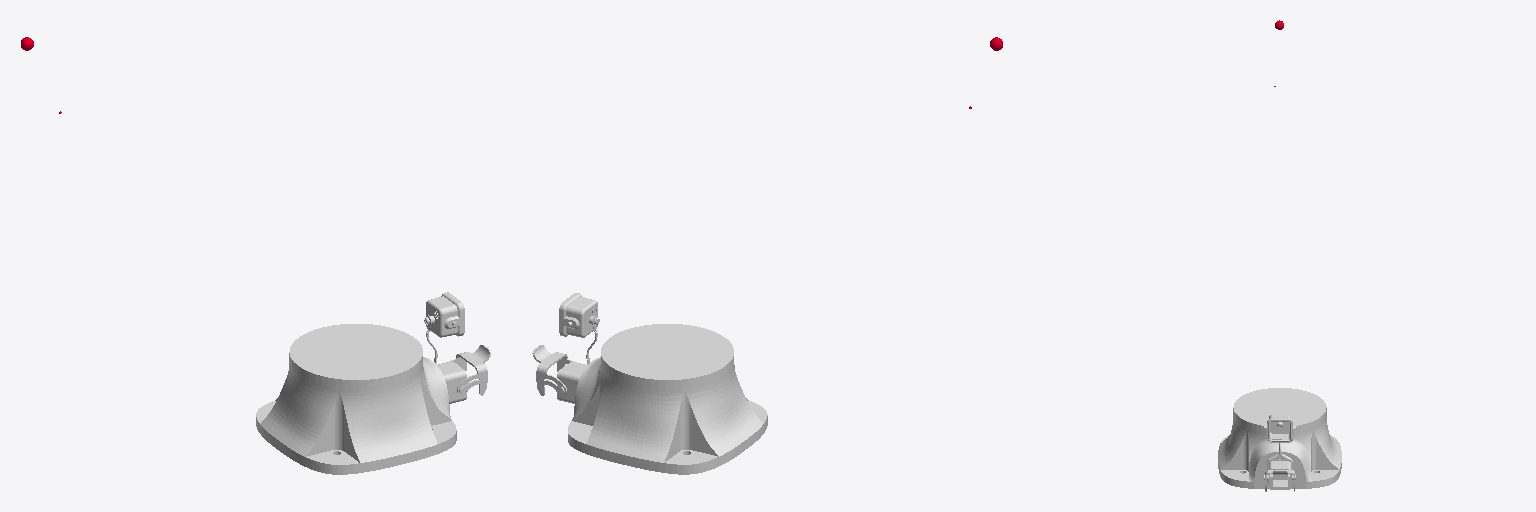
URDF robot description (mg400):
<?xml version="1.0" ?>
<robot name="mg400">
	<link name="world">
		<inertial>
			<origin rpy="0.00000 -0.00000 0.00000" xyz="0.00000 0.00000 0.00000"/>
			<mass value="0.00000"/>
			<inertia ixx="0.00000" ixy="0" ixz="0" iyy="0.00000" iyz="0" izz="0.00000"/>
		</inertial>
	</link>
	<link name="base_link">
		<inertial>
			<origin rpy="0.00000 -0.00000 0.00000" xyz="0.00060 -0.00000 0.05609"/>
			<mass value="3.62165"/>
			<inertia ixx="0.01587" ixy="0" ixz="0" iyy="0.01587" iyz="0" izz="0.02319"/>
		</inertial>
		<visual>
			<origin rpy="0.00000 -0.00000 0.00000" xyz="0.00000 0.00000 0.00000"/>
			<geometry>
				<mesh filename="../robot_arm_assets/mg400/meshes/base_link.STL" scale="1.00000 1.00000 1.00000"/>
			</geometry>
			<material name="mat_0">
				<color rgba="0.90000 0.90000 0.90000 1.00000" />
			</material>
		</visual>
		<collision>
			<origin rpy="0.00000 -0.00000 0.00000" xyz="0.00000 0.00000 0.00000"/>
			<geometry>
				<mesh filename="../robot_arm_assets/mg400/meshes/base_link.STL" scale="1.00000 1.00000 1.00000"/>
			</geometry>
		</collision>
	</link>
	<link name="link1">
		<inertial>
			<origin rpy="0.00000 -0.00000 0.00000" xyz="-0.00462 -0.00007 0.07099"/>
			<mass value="1.77056"/>
			<inertia ixx="0.00748" ixy="0" ixz="0" iyy="0.00775" iyz="0" izz="0.00787"/>
		</inertial>
		<visual>
			<origin rpy="0.00000 -0.00000 0.00000" xyz="0.00000 0.00000 0.00000"/>
			<geometry>
				<mesh filename="../robot_arm_assets/mg400/meshes/link1.STL" scale="1.00000 1.00000 1.00000"/>
			</geometry>
			<material name="mat_1">
				<color rgba="0.30000 0.30000 0.30000 1.00000" />
			</material>
		</visual>
		<collision>
			<origin rpy="0.00000 -0.00000 0.00000" xyz="0.00000 0.00000 0.00000"/>
			<geometry>
				<mesh filename="../robot_arm_assets/mg400/meshes/link1.STL" scale="1.00000 1.00000 1.00000"/>
			</geometry>
		</collision>
	</link>
	<link name="link2_1">
		<inertial>
			<origin rpy="0.00000 -0.00000 0.00000" xyz="-0.00322 0.03529 0.05961"/>
			<mass value="0.08661"/>
			<inertia ixx="0.00038" ixy="0" ixz="0" iyy="0.00035" iyz="0" izz="0.00006"/>
		</inertial>
		<visual>
			<origin rpy="0.00000 -0.00000 0.00000" xyz="0.00000 0.00000 0.00000"/>
			<geometry>
				<mesh filename="../robot_arm_assets/mg400/meshes/link2_1.STL" scale="1.00000 1.00000 1.00000"/>
			</geometry>
			<material name="mat_2">
				<color rgba="0.30000 0.30000 0.30000 1.00000" />
			</material>
		</visual>
		<collision>
			<origin rpy="0.00000 -0.00000 0.00000" xyz="0.00000 0.00000 0.00000"/>
			<geometry>
				<mesh filename="../robot_arm_assets/mg400/meshes/link2_1.STL" scale="1.00000 1.00000 1.00000"/>
			</geometry>
		</collision>
	</link>
	<link name="link3_1">
		<inertial>
			<origin rpy="0.00000 -0.00000 0.00000" xyz="0.08217 0.00011 -0.00334"/>
			<mass value="0.03752"/>
			<inertia ixx="0.00001" ixy="0" ixz="0" iyy="0.00018" iyz="0" izz="0.00018"/>
		</inertial>
		<visual>
			<origin rpy="0.00000 -0.00000 0.00000" xyz="0.00000 0.00000 0.00000"/>
			<geometry>
				<mesh filename="../robot_arm_assets/mg400/meshes/link3_1.STL" scale="1.00000 1.00000 1.00000"/>
			</geometry>
			<material name="mat_3">
				<color rgba="0.30000 0.30000 0.30000 1.00000" />
			</material>
		</visual>
		<collision>
			<origin rpy="0.00000 -0.00000 0.00000" xyz="0.00000 0.00000 0.00000"/>
			<geometry>
				<mesh filename="../robot_arm_assets/mg400/meshes/link3_1.STL" scale="1.00000 1.00000 1.00000"/>
			</geometry>
		</collision>
	</link>
	<link name="link4_1">
		<inertial>
			<origin rpy="0.00000 -0.00000 0.00000" xyz="0.03879 0.01708 -0.00246"/>
			<mass value="0.06290"/>
			<inertia ixx="0.00006" ixy="0" ixz="0" iyy="0.00010" iyz="0" izz="0.00007"/>
		</inertial>
		<visual>
			<origin rpy="0.00000 -0.00000 0.00000" xyz="0.00000 0.00000 0.00000"/>
			<geometry>
				<mesh filename="../robot_arm_assets/mg400/meshes/link4_1.STL" scale="1.00000 1.00000 1.00000"/>
			</geometry>
			<material name="mat_4">
				<color rgba="0.90000 0.90000 0.90000 1.00000" />
			</material>
		</visual>
		<collision>
			<origin rpy="0.00000 -0.00000 0.00000" xyz="0.00000 0.00000 0.00000"/>
			<geometry>
				<mesh filename="../robot_arm_assets/mg400/meshes/link4_1.STL" scale="1.00000 1.00000 1.00000"/>
			</geometry>
		</collision>
	</link>
	<link name="link5">
		<inertial>
			<origin rpy="0.00000 -0.00000 0.00000" xyz="0.00000 0.00000 -0.03497"/>
			<mass value="0.09653"/>
			<inertia ixx="0.00008" ixy="0" ixz="0" iyy="0.00008" iyz="0" izz="0.00003"/>
		</inertial>
		<visual>
			<origin rpy="0.00000 -0.00000 0.00000" xyz="0.00000 0.00000 0.00000"/>
			<geometry>
				<mesh filename="../robot_arm_assets/mg400/meshes/link5.STL" scale="1.00000 1.00000 1.00000"/>
			</geometry>
			<material name="mat_5">
				<color rgba="0.90000 0.90000 0.90000 1.00000" />
			</material>
		</visual>
		<collision>
			<origin rpy="0.00000 -0.00000 0.00000" xyz="0.00000 0.00000 0.00000"/>
			<geometry>
				<mesh filename="../robot_arm_assets/mg400/meshes/link5.STL" scale="1.00000 1.00000 1.00000"/>
			</geometry>
		</collision>
	</link>
	<link name="ee_link">
		<inertial>
			<origin rpy="-3.14000 -0.00000 1.57000" xyz="0.00000 0.00000 0.00000"/>
			<mass value="0.00000"/>
			<inertia ixx="0.00000" ixy="0" ixz="0" iyy="0.00000" iyz="0" izz="0.00000"/>
		</inertial>
		<visual>
			<origin rpy="0.00000 -0.00000 0.00000" xyz="0.00000 0.00000 0.00000"/>
			<geometry>
				<sphere radius="0.00500"/>
			</geometry>
			<material name="mat_6">
				<color rgba="0.90000 0.00000 0.20000 1.00000" />
			</material>
		</visual>
		<collision>
			<origin rpy="0.00000 -0.00000 0.00000" xyz="0.00000 0.00000 0.00000"/>
			<geometry>
				<sphere radius="0.00100"/>
			</geometry>
		</collision>
	</link>
	<link name="link2_2">
		<inertial>
			<origin rpy="0.00000 -0.00000 0.00000" xyz="-0.02011 0.03050 0.07363"/>
			<mass value="0.06625"/>
			<inertia ixx="0.00025" ixy="0" ixz="0" iyy="0.00024" iyz="0" izz="0.00004"/>
		</inertial>
		<visual>
			<origin rpy="0.00000 -0.00000 0.00000" xyz="0.00000 0.00000 0.00000"/>
			<geometry>
				<mesh filename="../robot_arm_assets/mg400/meshes/link2_2.STL" scale="1.00000 1.00000 1.00000"/>
			</geometry>
			<material name="mat_7">
				<color rgba="0.90000 0.90000 0.90000 1.00000" />
			</material>
		</visual>
		<collision>
			<origin rpy="0.00000 -0.00000 0.00000" xyz="0.00000 0.00000 0.00000"/>
			<geometry>
				<mesh filename="../robot_arm_assets/mg400/meshes/link2_2.STL" scale="1.00000 1.00000 1.00000"/>
			</geometry>
		</collision>
	</link>
	<link name="link3_2">
		<inertial>
			<origin rpy="0.00000 -0.00000 0.00000" xyz="0.03386 0.02402 0.00452"/>
			<mass value="0.03667"/>
			<inertia ixx="0.00002" ixy="0" ixz="0" iyy="0.00004" iyz="0" izz="0.00004"/>
		</inertial>
		<visual>
			<origin rpy="0.00000 -0.00000 0.00000" xyz="0.00000 0.00000 0.00000"/>
			<geometry>
				<mesh filename="../robot_arm_assets/mg400/meshes/link3_2.STL" scale="1.00000 1.00000 1.00000"/>
			</geometry>
			<material name="mat_8">
				<color rgba="0.30000 0.30000 0.30000 1.00000" />
			</material>
		</visual>
		<collision>
			<origin rpy="0.00000 -0.00000 0.00000" xyz="0.00000 0.00000 0.00000"/>
			<geometry>
				<mesh filename="../robot_arm_assets/mg400/meshes/link3_2.STL" scale="1.00000 1.00000 1.00000"/>
			</geometry>
		</collision>
	</link>
	<link name="link4_2">
		<inertial>
			<origin rpy="0.00000 -0.00000 0.00000" xyz="0.08764 0.02350 0.00831"/>
			<mass value="0.04536"/>
			<inertia ixx="0.00002" ixy="0" ixz="0" iyy="0.00016" iyz="0" izz="0.00016"/>
		</inertial>
		<visual>
			<origin rpy="0.00000 -0.00000 0.00000" xyz="0.00000 0.00000 0.00000"/>
			<geometry>
				<mesh filename="../robot_arm_assets/mg400/meshes/link4_2.STL" scale="1.00000 1.00000 1.00000"/>
			</geometry>
			<material name="mat_9">
				<color rgba="0.90000 0.90000 0.90000 1.00000" />
			</material>
		</visual>
		<collision>
			<origin rpy="0.00000 -0.00000 0.00000" xyz="0.00000 0.00000 0.00000"/>
			<geometry>
				<mesh filename="../robot_arm_assets/mg400/meshes/link4_2.STL" scale="1.00000 1.00000 1.00000"/>
			</geometry>
		</collision>
	</link>
	<link name="digit_body_link">
		<inertial>
			<origin rpy="0.00000 -0.00000 0.00000" xyz="0.00443 -0.01409 0.00000"/>
			<mass value="0.00778"/>
			<inertia ixx="0.00000" ixy="0" ixz="0" iyy="0.00000" iyz="0" izz="0.00000"/>
		</inertial>
		<visual>
			<origin rpy="0.00000 -0.00000 0.00000" xyz="0.00000 0.00000 0.02000"/>
			<geometry>
				<mesh filename="../sensor_assets/right_angle_digit/../standard_digit/body/digit_body.stl" scale="1.00000 1.00000 1.00000"/>
			</geometry>
			<material name="mat_10">
				<color rgba="0.80000 0.80000 0.80000 1.00000" />
			</material>
		</visual>
		<collision>
			<origin rpy="0.00000 -0.00000 0.00000" xyz="0.00000 0.00000 0.02000"/>
			<geometry>
				<mesh filename="../sensor_assets/right_angle_digit/../standard_digit/body/digit_body.stl" scale="1.00000 1.00000 1.00000"/>
			</geometry>
		</collision>
	</link>
	<link name="digit_tip_link">
		<inertial>
			<origin rpy="0.00000 -0.00000 0.00000" xyz="-0.00000 0.00554 -0.00576"/>
			<mass value="0.00130"/>
			<inertia ixx="0.00000" ixy="0" ixz="0" iyy="0.00000" iyz="0" izz="0.00000"/>
		</inertial>
		<visual>
			<origin rpy="0.00000 -0.00000 0.00000" xyz="0.00000 0.00000 -0.02000"/>
			<geometry>
				<mesh filename="../sensor_assets/right_angle_digit/../standard_digit/tip/digit_skin.stl" scale="1.05000 1.05000 1.00000"/>
			</geometry>
			<material name="mat_11">
				<color rgba="0.00000 0.00000 0.00000 1.00000" />
			</material>
		</visual>
		<collision>
			<origin rpy="0.00000 -0.00000 0.00000" xyz="0.00000 0.00000 -0.02000"/>
			<geometry>
				<mesh filename="../sensor_assets/right_angle_digit/../standard_digit/tip/digit_core.stl" scale="1.05000 1.05000 1.00000"/>
			</geometry>
		</collision>
	</link>
	<link name="tcp_link">
		<inertial>
			<origin rpy="0.00000 -0.00000 1.57000" xyz="0.00000 0.00000 0.00000"/>
			<mass value="0.00000"/>
			<inertia ixx="0.00000" ixy="0" ixz="0" iyy="0.00000" iyz="0" izz="0.00000"/>
		</inertial>
		<visual>
			<origin rpy="0.00000 -0.00000 0.00000" xyz="0.00000 0.00000 0.00000"/>
			<geometry>
				<sphere radius="0.00100"/>
			</geometry>
			<material name="mat_12">
				<color rgba="0.90000 0.00000 0.20000 0.50000" />
			</material>
		</visual>
	</link>
	<joint name="world_joint" type="fixed">
		<parent link="world"/>
		<child link="base_link"/>
		<dynamics damping="1.0" friction="0.0001"/>
		<origin rpy="0.00000 -0.00000 -3.14000" xyz="0.00000 0.00000 0.00000"/>
		<axis xyz="0.00000 0.00000 0.00000"/>
	</joint>
	<joint name="j1" type="revolute">
		<parent link="base_link"/>
		<child link="link1"/>
		<limit effort="0.00000" lower="-3.14000" upper="3.14000" velocity="0.00000"/>
		<dynamics damping="1.0" friction="0.0001"/>
		<origin rpy="0.00000 -0.00000 0.00000" xyz="-0.00500 0.00000 0.10900"/>
		<axis xyz="0.00000 0.00000 1.00000"/>
	</joint>
	<joint name="j2_1" type="revolute">
		<parent link="link1"/>
		<child link="link2_1"/>
		<limit effort="0.00000" lower="-3.14000" upper="3.14000" velocity="0.00000"/>
		<dynamics damping="1.0" friction="0.0001"/>
		<origin rpy="0.00000 -0.00000 0.00000" xyz="0.04350 -0.03577 0.11900"/>
		<axis xyz="0.00000 1.00000 0.00000"/>
	</joint>
	<joint name="j3_1" type="revolute">
		<parent link="link2_1"/>
		<child link="link3_1"/>
		<limit effort="0.00000" lower="-3.14000" upper="3.14000" velocity="0.00000"/>
		<dynamics damping="1.0" friction="0.0001"/>
		<origin rpy="0.00000 -0.00000 0.00000" xyz="-0.00105 0.03577 0.17500"/>
		<axis xyz="0.00000 1.00000 0.00000"/>
	</joint>
	<joint name="j4_1" type="revolute">
		<parent link="link3_1"/>
		<child link="link4_1"/>
		<limit effort="0.00000" lower="-3.14000" upper="3.14000" velocity="0.00000"/>
		<dynamics damping="1.0" friction="0.0001"/>
		<origin rpy="0.00000 -0.00000 0.00000" xyz="0.17497 -0.01700 0.00325"/>
		<axis xyz="0.00000 1.00000 0.00000"/>
	</joint>
	<joint name="j5" type="revolute">
		<parent link="link4_1"/>
		<child link="link5"/>
		<limit effort="0.00000" lower="-3.14000" upper="3.14000" velocity="0.00000"/>
		<dynamics damping="1.0" friction="0.0001"/>
		<origin rpy="0.00000 -0.00000 0.00000" xyz="0.06600 0.01700 0.03100"/>
		<axis xyz="-0.00001 0.00000 1.00000"/>
	</joint>
	<joint name="ee_joint" type="fixed">
		<parent link="link5"/>
		<child link="ee_link"/>
		<dynamics damping="1.0" friction="0.0001"/>
		<origin rpy="0.00000 -0.00000 0.00000" xyz="0.00000 0.00000 -0.06500"/>
		<axis xyz="0.00000 0.00000 0.00000"/>
	</joint>
	<joint name="j2_2" type="revolute">
		<parent link="link1"/>
		<child link="link2_2"/>
		<limit effort="0.00000" lower="-3.14000" upper="3.14000" velocity="0.00000"/>
		<dynamics damping="1.0" friction="0.0001"/>
		<origin rpy="0.00000 -0.00000 0.00000" xyz="0.00453 -0.03050 0.14150"/>
		<axis xyz="0.00000 1.00000 0.00000"/>
	</joint>
	<joint name="j3_2" type="revolute">
		<parent link="link2_2"/>
		<child link="link3_2"/>
		<limit effort="0.00000" lower="-3.14000" upper="3.14000" velocity="0.00000"/>
		<dynamics damping="1.0" friction="0.0001"/>
		<origin rpy="0.00000 -0.00000 0.00000" xyz="-0.00105 0.00650 0.17500"/>
		<axis xyz="0.00000 1.00000 0.00000"/>
	</joint>
	<joint name="j4_2" type="revolute">
		<parent link="link3_2"/>
		<child link="link4_2"/>
		<limit effort="0.00000" lower="-3.14000" upper="3.14000" velocity="0.00000"/>
		<dynamics damping="1.0" friction="0.0001"/>
		<origin rpy="0.00000 -0.00000 0.00000" xyz="0.06790 0.00050 0.01197"/>
		<axis xyz="0.00000 1.00000 0.00000"/>
	</joint>
	<joint name="joint_dummy1" type="fixed">
		<parent link="ee_link"/>
		<child link="digit_body_link"/>
		<dynamics damping="1.0" friction="0.0001"/>
		<origin rpy="-1.57080 -1.57080 1.57080" xyz="0.00000 0.00500 -0.06000"/>
		<axis xyz="0.00000 0.00000 1.00000"/>
	</joint>
	<joint name="digit_tip_to_body" type="fixed">
		<parent link="digit_body_link"/>
		<child link="digit_tip_link"/>
		<dynamics damping="1.0" friction="0.0001"/>
		<origin rpy="-3.14159 -0.00000 1.57080" xyz="-0.00152 -0.00001 -0.00415"/>
		<axis xyz="0.00000 0.00000 0.00000"/>
	</joint>
	<joint name="tcp_joint" type="fixed">
		<parent link="digit_body_link"/>
		<child link="tcp_link"/>
		<dynamics damping="1.0" friction="0.0001"/>
		<origin rpy="1.57000 -0.00000 -1.57000" xyz="0.00070 0.00000 0.02500"/>
		<axis xyz="0.00000 0.00000 0.00000"/>
	</joint>
</robot>

--- What the picture shows (computed from the rendered views, not written in the file) ---
3 views of the same robot in one strip: view 1: azimuth 30°, elevation 25°; view 2: azimuth 150°, elevation 25°; view 3: azimuth 270°, elevation 25° (orthographic).
Model mg400 with 14 links and 13 joints (8 revolute, 5 fixed), rooted at world, posed every joint at zero.
Visible links, largest first — view 1: base_link; view 2: base_link; view 3: base_link.
Link boxes in pixels (x1,y1,x2,y2): base_link: (256, 292, 491, 474); base_link: (532, 293, 767, 474); base_link: (1218, 388, 1341, 491).
Size in the robot's own frame: 0.3937 by 0.13 by 0.3837 metres.
1 mesh visuals loaded from 11 distinct referenced files (1 binary STL); not drawn: 10 (reference not matched to a file when rendering).